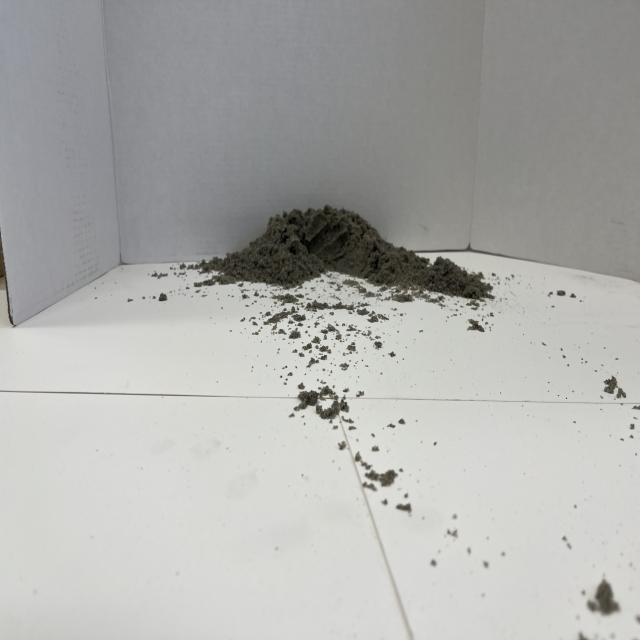sand: (219, 200, 456, 295)
